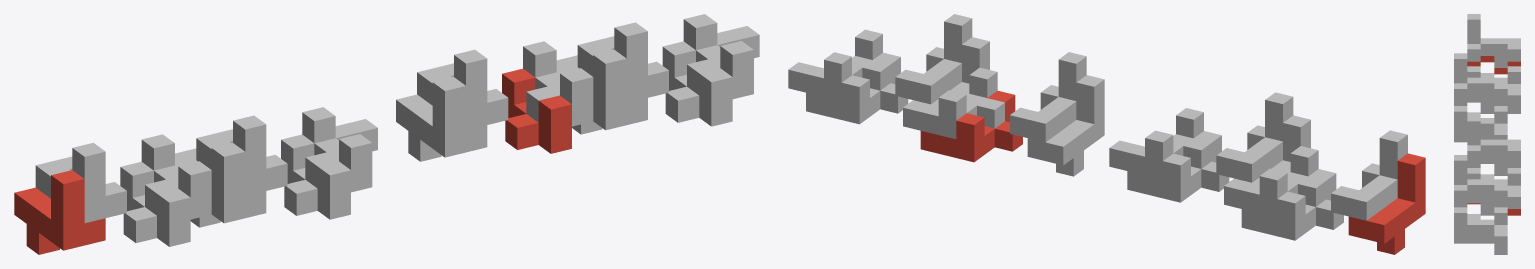
The model's file is tiling.obj.
The picture shows the model from 3 angles, left to right: view 1: azimuth 30°, elevation 25°; view 2: azimuth 150°, elevation 25°; view 3: azimuth 270°, elevation 25°; orthographic projection. The views are drawn at different scales.
Parts seen in each view (by area): view 1: copy_1_domain_1, copy_1_domain_5, copy_2_domain_8, copy_2_domain_4, copy_2_domain_1, copy_2_domain_5, copy_2_domain_6, copy_2_domain_2, copy_2_domain_7, copy_2_domain_3, copy_1_domain_8, copy_1_domain_7 (+4 smaller); view 2: copy_2_domain_3, copy_2_domain_7, copy_1_domain_1, copy_1_domain_5, copy_2_domain_8, copy_2_domain_4, copy_1_domain_7, copy_1_domain_3, copy_1_domain_8, copy_1_domain_4, copy_2_domain_5, copy_2_domain_1 (+4 smaller); view 3: copy_1_domain_4, copy_1_domain_7, copy_1_domain_8, copy_1_domain_3, copy_2_domain_8, copy_2_domain_4, copy_2_domain_3, copy_2_domain_7, copy_2_domain_6, copy_1_domain_6, copy_1_domain_1, copy_1_domain_5 (+4 smaller).
Part boxes in pixels (x1=…): copy_1_domain_1: x1=14, y1=170, x2=105, y2=254; copy_1_domain_5: x1=396, y1=77, x2=487, y2=161; copy_2_domain_8: x1=683, y1=14, x2=759, y2=99; copy_2_domain_4: x1=302, y1=107, x2=377, y2=192; copy_2_domain_1: x1=120, y1=161, x2=190, y2=246; copy_2_domain_5: x1=502, y1=68, x2=571, y2=153; copy_2_domain_6: x1=662, y1=41, x2=732, y2=126; copy_2_domain_2: x1=281, y1=134, x2=350, y2=219; copy_2_domain_7: x1=523, y1=41, x2=593, y2=126; copy_2_domain_3: x1=141, y1=134, x2=211, y2=219; copy_1_domain_8: x1=577, y1=22, x2=668, y2=102; copy_1_domain_7: x1=417, y1=49, x2=508, y2=130; copy_2_domain_3: x1=1224, y1=146, x2=1326, y2=217; copy_2_domain_7: x1=903, y1=67, x2=1004, y2=139; copy_1_domain_1: x1=1348, y1=153, x2=1425, y2=254; copy_1_domain_5: x1=1027, y1=75, x2=1104, y2=176; copy_2_domain_8: x1=788, y1=29, x2=890, y2=101; copy_2_domain_4: x1=1109, y1=108, x2=1211, y2=179; copy_1_domain_7: x1=1010, y1=52, x2=1086, y2=142; copy_1_domain_3: x1=1331, y1=130, x2=1407, y2=220; copy_1_domain_8: x1=895, y1=14, x2=972, y2=104; copy_1_domain_4: x1=1216, y1=92, x2=1293, y2=182; copy_2_domain_5: x1=920, y1=90, x2=1022, y2=162; copy_2_domain_1: x1=1241, y1=169, x2=1343, y2=240; copy_1_domain_4: x1=1454, y1=53, x2=1507, y2=107; copy_1_domain_7: x1=1467, y1=115, x2=1520, y2=169; copy_1_domain_8: x1=1454, y1=155, x2=1507, y2=208; copy_1_domain_3: x1=1467, y1=14, x2=1520, y2=67; copy_2_domain_8: x1=1454, y1=207, x2=1507, y2=248; copy_2_domain_4: x1=1454, y1=106, x2=1507, y2=139; copy_2_domain_3: x1=1467, y1=66, x2=1520, y2=107; copy_2_domain_7: x1=1467, y1=168, x2=1520, y2=208; copy_2_domain_6: x1=1454, y1=237, x2=1507, y2=254; copy_1_domain_6: x1=1454, y1=197, x2=1507, y2=215; copy_1_domain_1: x1=1467, y1=56, x2=1520, y2=74; copy_1_domain_5: x1=1467, y1=157, x2=1520, y2=175.
Size of the model in its own units: 34 by 5 by 5.
